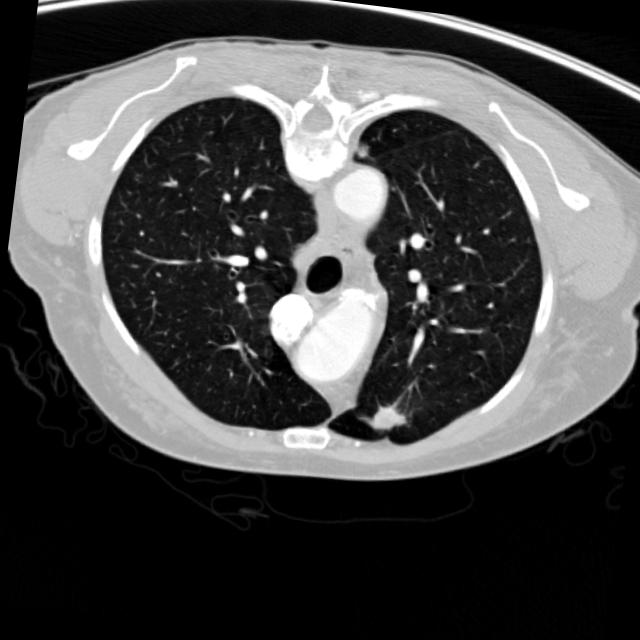nodule: (352, 386, 420, 452)
